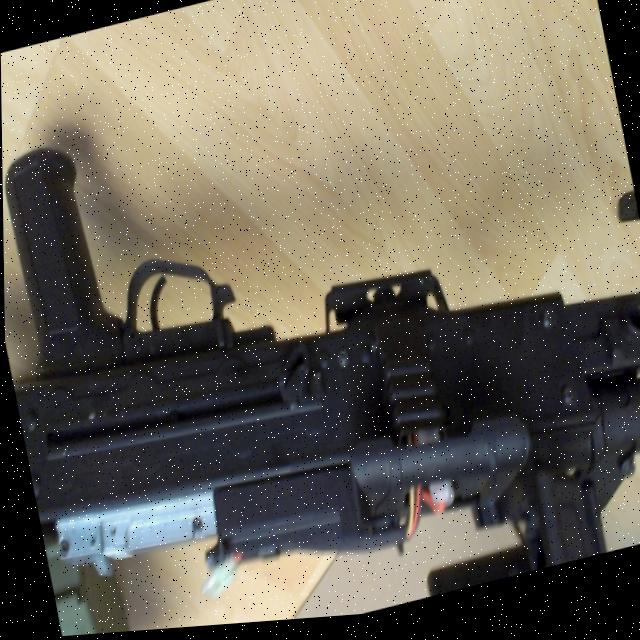firearm: (1, 13, 640, 640)
